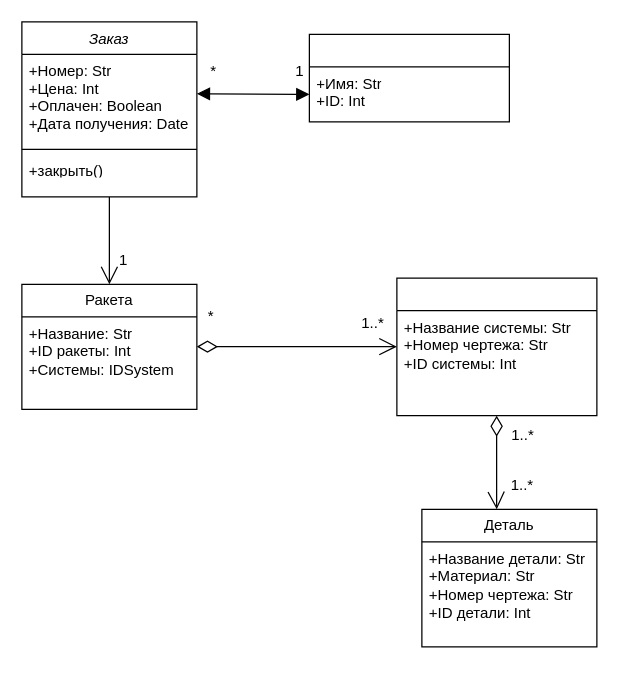
This 619x673 diagram has some shape labels left out. The box of each missing label's shape, as (x1, y1, x2, y2) in pixels:
Заказчик: (308, 33, 509, 122)
Система: (396, 277, 597, 416)
